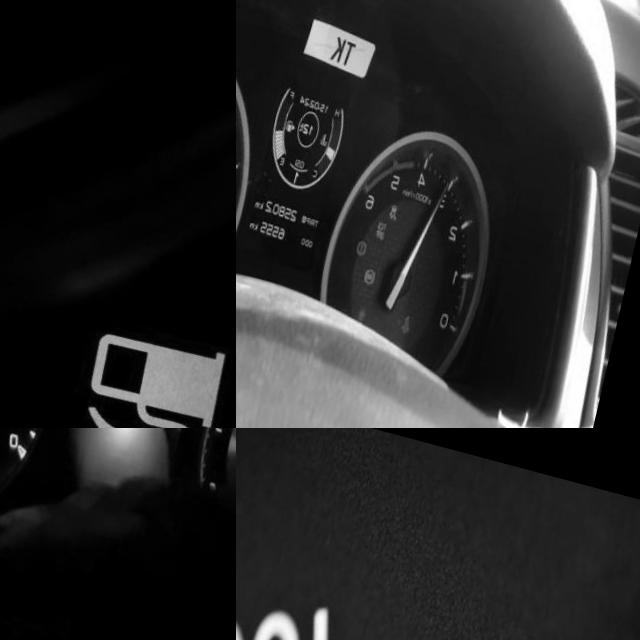Seat Belt: (417, 290, 431, 313)
